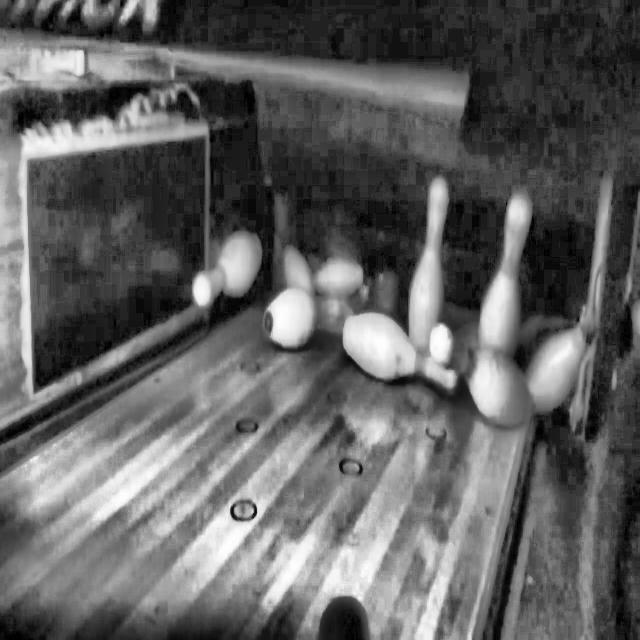bowling-pins: (480, 193, 532, 356), (409, 178, 448, 346)
